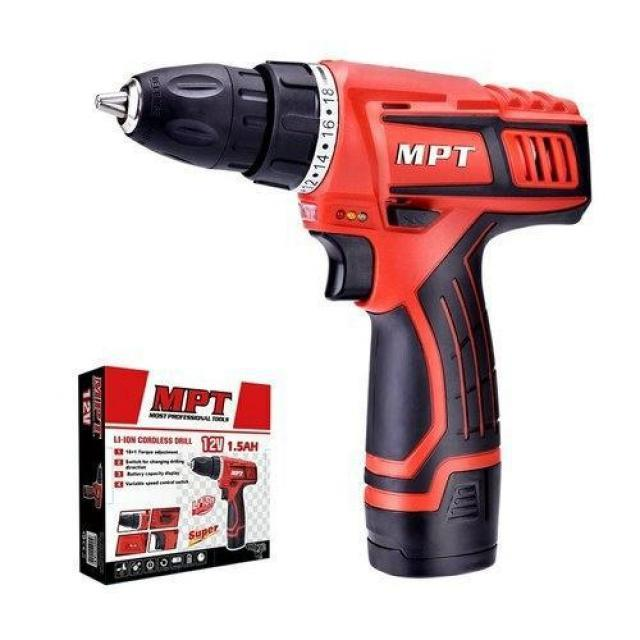drill: (94, 57, 592, 579), (184, 456, 258, 550)
